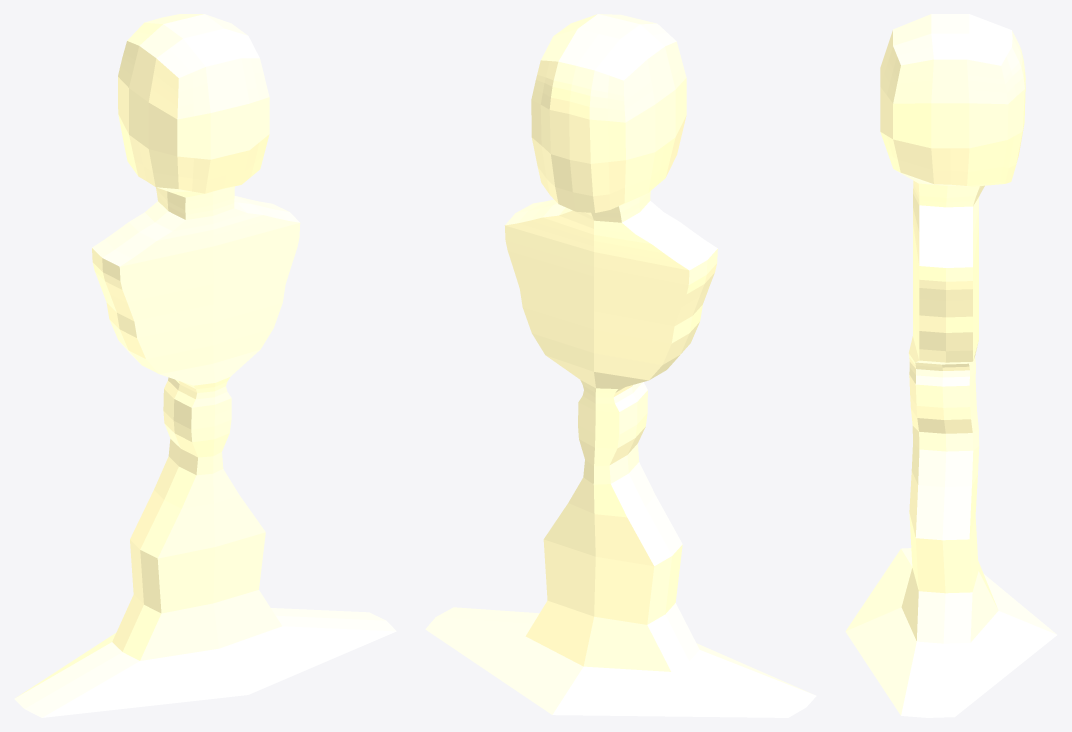
Rendered from training-doll.fbx.
The picture shows the model from 3 angles, left to right: view 1: azimuth 30°, elevation 25°; view 2: azimuth 150°, elevation 25°; view 3: azimuth 270°, elevation 25°; orthographic projection. The views are drawn at different scales.
Parts seen in each view (by area): view 1: Cube; view 2: Cube; view 3: Cube.
Boxes of the visible parts, x1,y1,x2,y2 form: Cube: [14, 14, 396, 717]; Cube: [425, 14, 816, 717]; Cube: [845, 14, 1056, 717].
Bounding box in the file's own units: 8.35 × 13.92 × 4.38.
